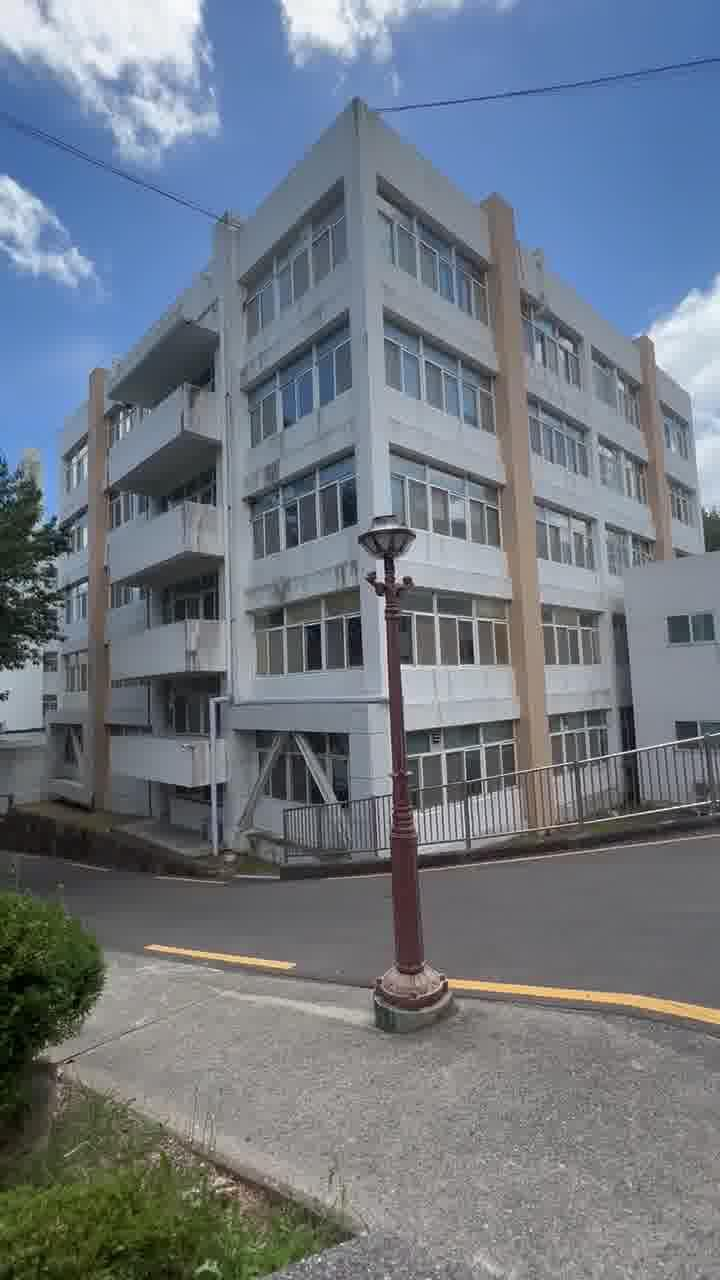building: (122, 124, 682, 822)
